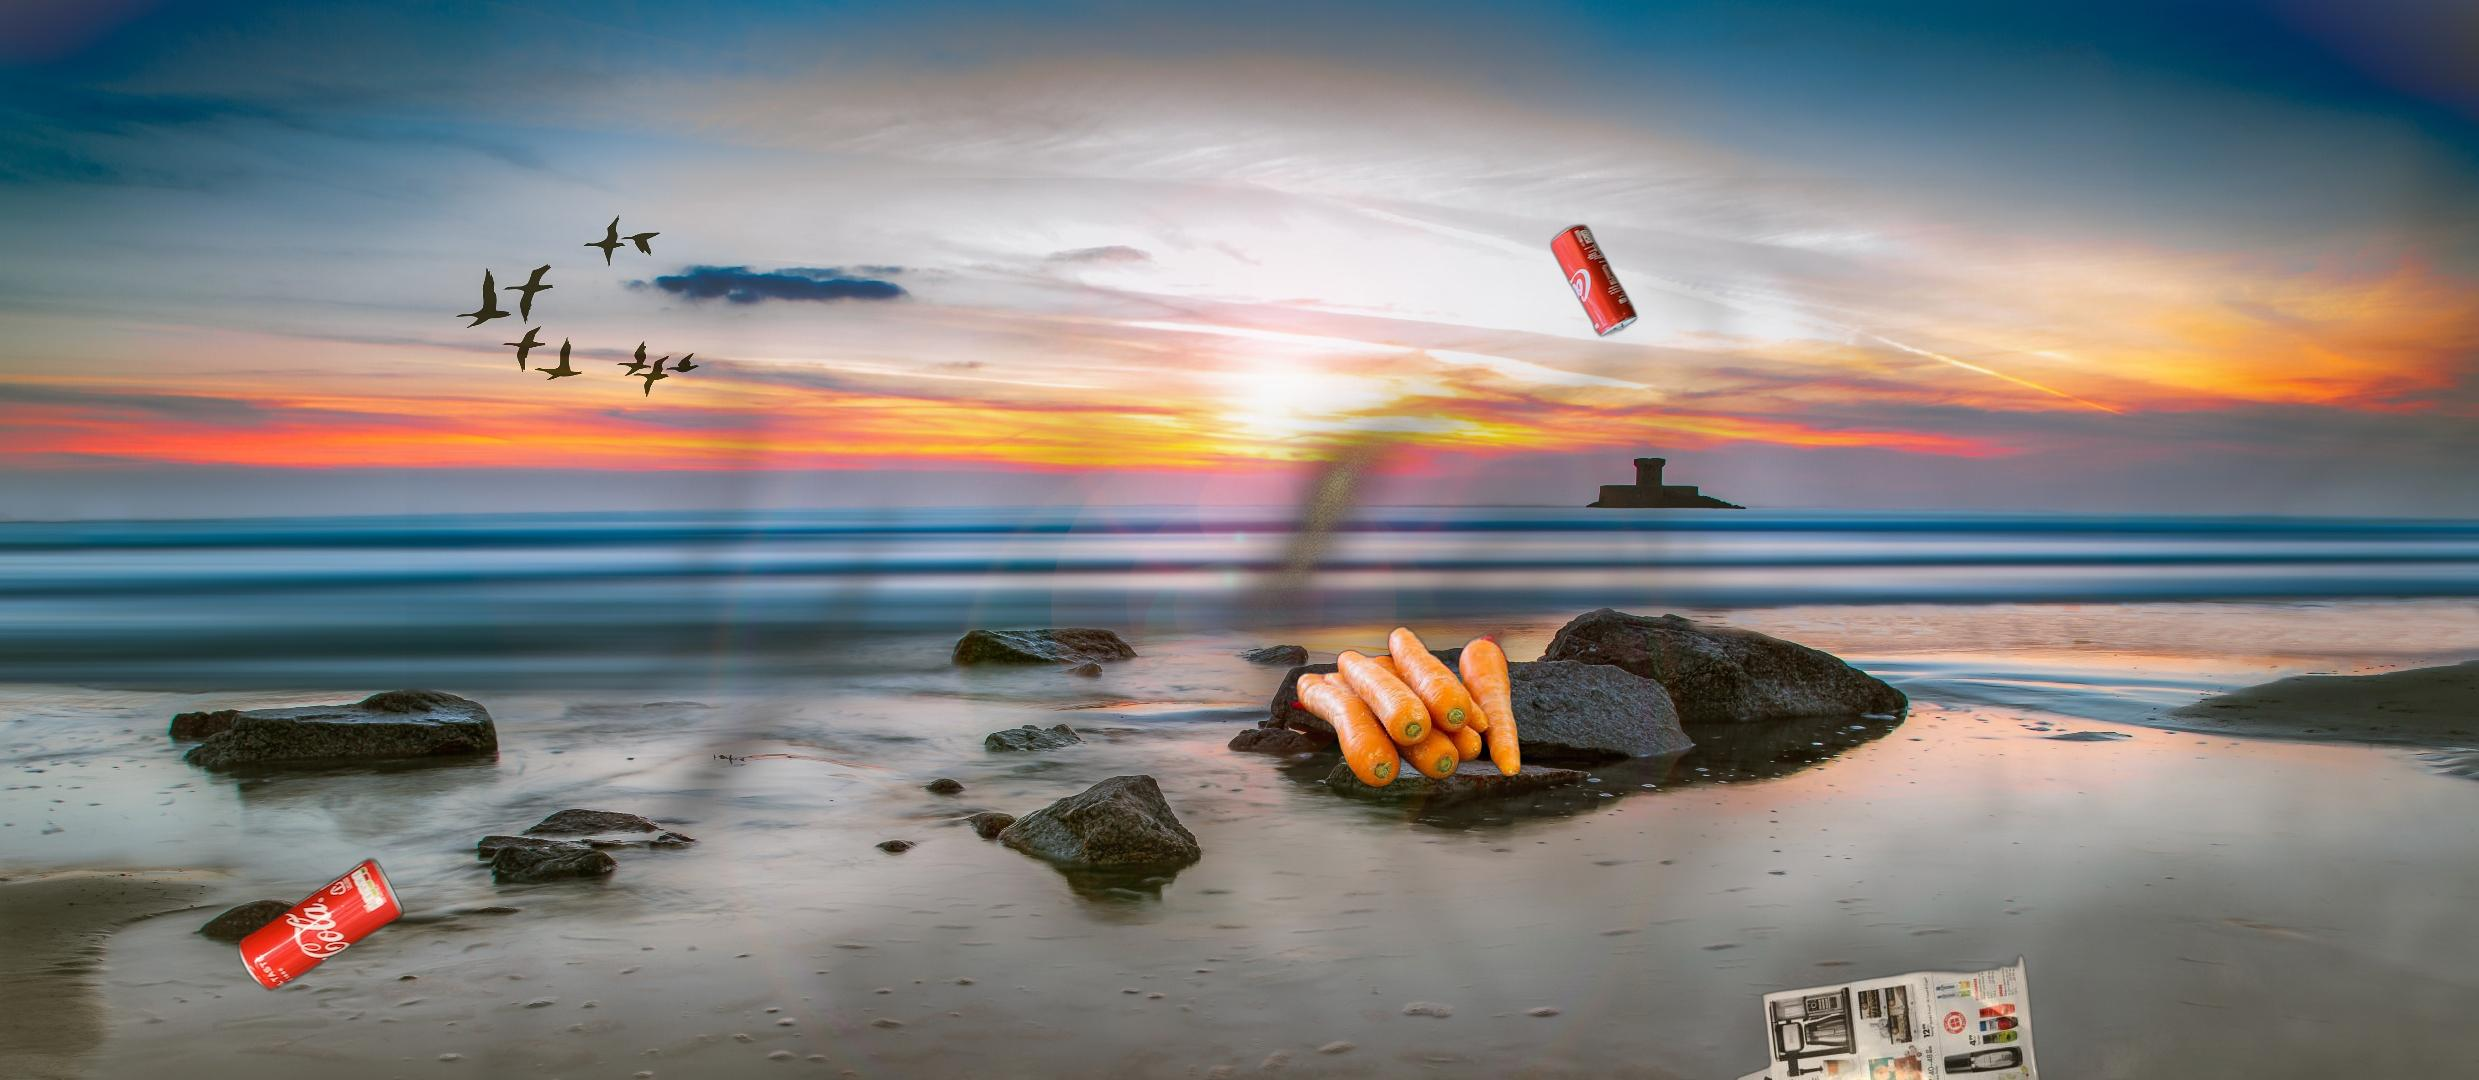biological: (1262, 625, 1537, 791)
metal-cans: (232, 854, 408, 998), (1546, 218, 1641, 343)
paper: (1733, 952, 2058, 1080)
trashbox-cardboard: (406, 179, 2479, 1080)
